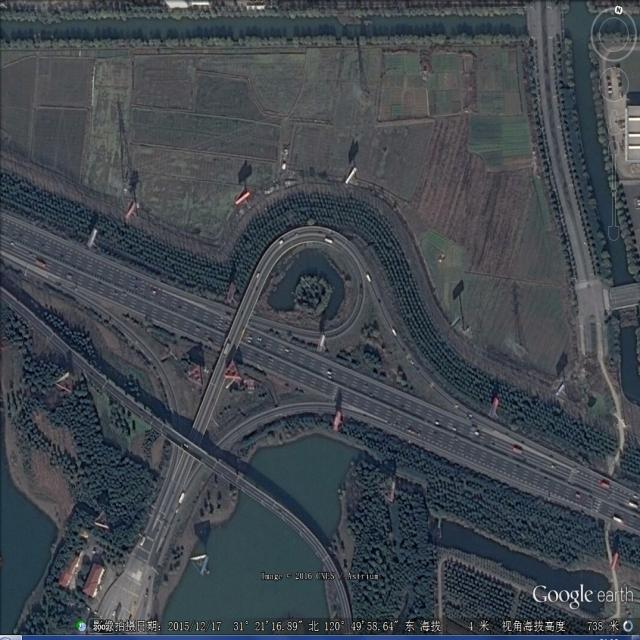overpass: (167, 222, 479, 500)
